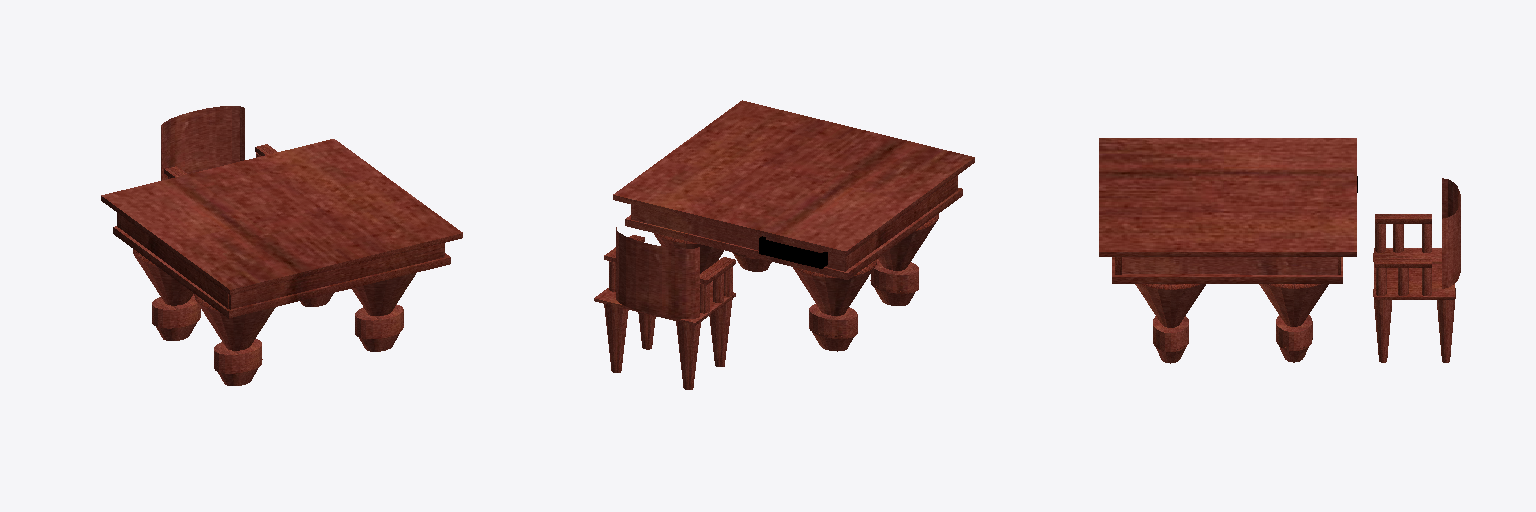
The picture shows the model from 3 angles: view 1: azimuth 30°, elevation 25°; view 2: azimuth 150°, elevation 25°; view 3: azimuth 270°, elevation 25°; orthographic projection.
Parts seen in each view (by area): view 1: pCylinder36; view 2: pCylinder36; view 3: pCylinder36.
Boxes of the visible parts, x1,y1,x2,y2 form: pCylinder36: [101, 106, 462, 385]; pCylinder36: [594, 100, 974, 389]; pCylinder36: [1099, 138, 1460, 363].
Bounding box in the file's own units: 3.6 × 2.11 × 4.85.
Materials: 4 (1 with a texture image).